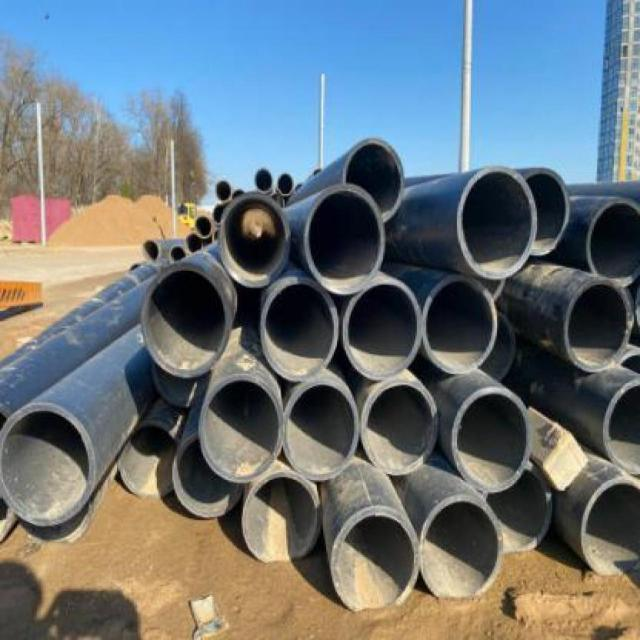pipe: (0, 403, 96, 526), (141, 262, 231, 378), (198, 374, 285, 482), (332, 506, 420, 611), (456, 166, 536, 278), (304, 185, 384, 295), (451, 388, 531, 493), (420, 495, 502, 597), (261, 279, 338, 381), (343, 280, 421, 380), (283, 378, 359, 480), (360, 379, 438, 476), (242, 471, 322, 564), (423, 277, 499, 372), (218, 192, 291, 288), (564, 278, 632, 373), (483, 462, 552, 553), (580, 476, 639, 578), (171, 437, 244, 519), (342, 139, 405, 222), (119, 419, 181, 497), (587, 198, 640, 286), (523, 168, 571, 256), (603, 379, 639, 476), (254, 167, 273, 194), (142, 238, 161, 263), (185, 232, 204, 255), (277, 173, 294, 196), (215, 179, 232, 202), (196, 216, 213, 239), (169, 245, 186, 263), (213, 203, 226, 223)
